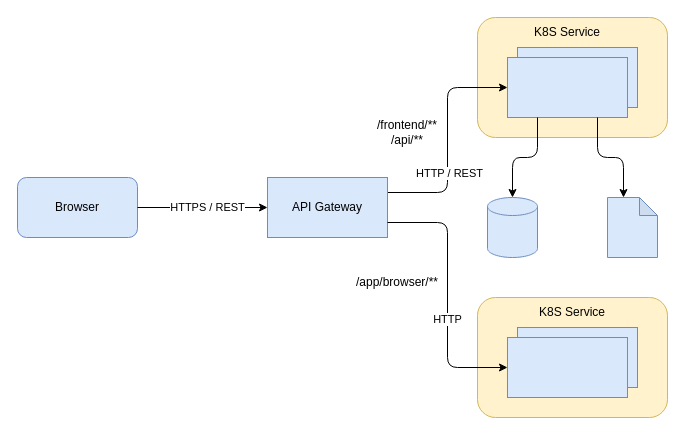
Image size: 685x435. Some labels were removed from this diagram. The centre of each missing label's shape, as x and y in pixels:
"microdms-service" goes at (567,87).
"NGINX + Angular app" goes at (567,367).
